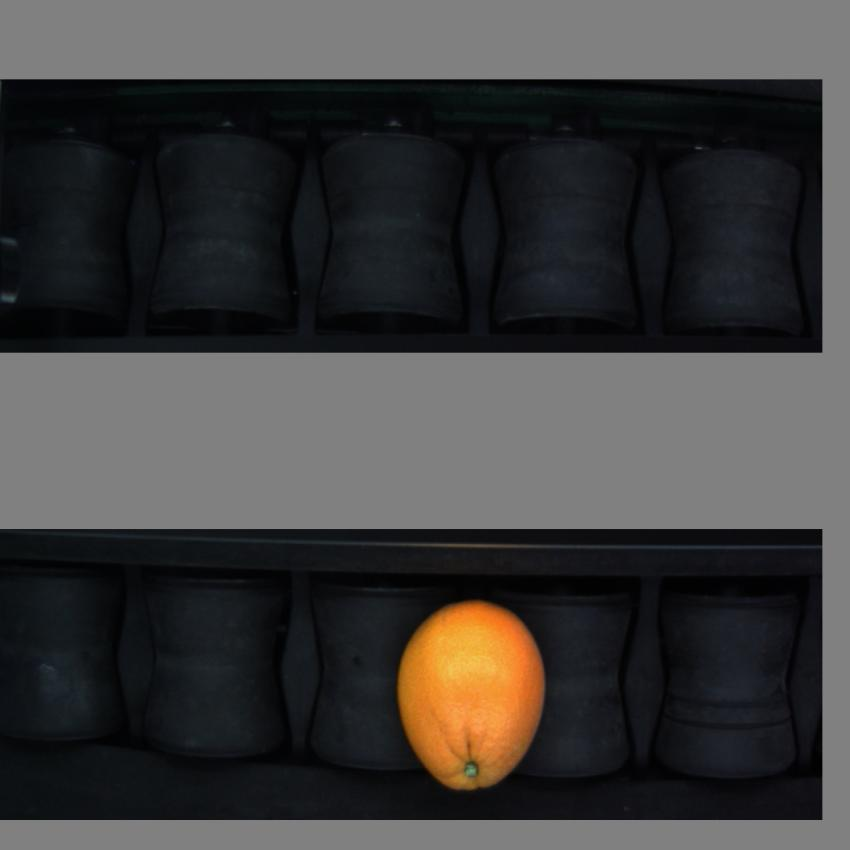Buen estado: (390, 583, 555, 804)
